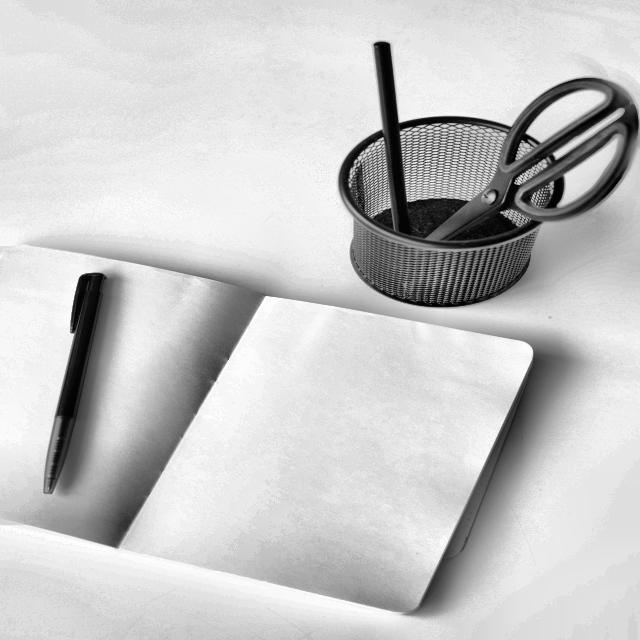Notebook: (0, 241, 541, 622)
Pen: (24, 271, 114, 496), (370, 39, 431, 251)
